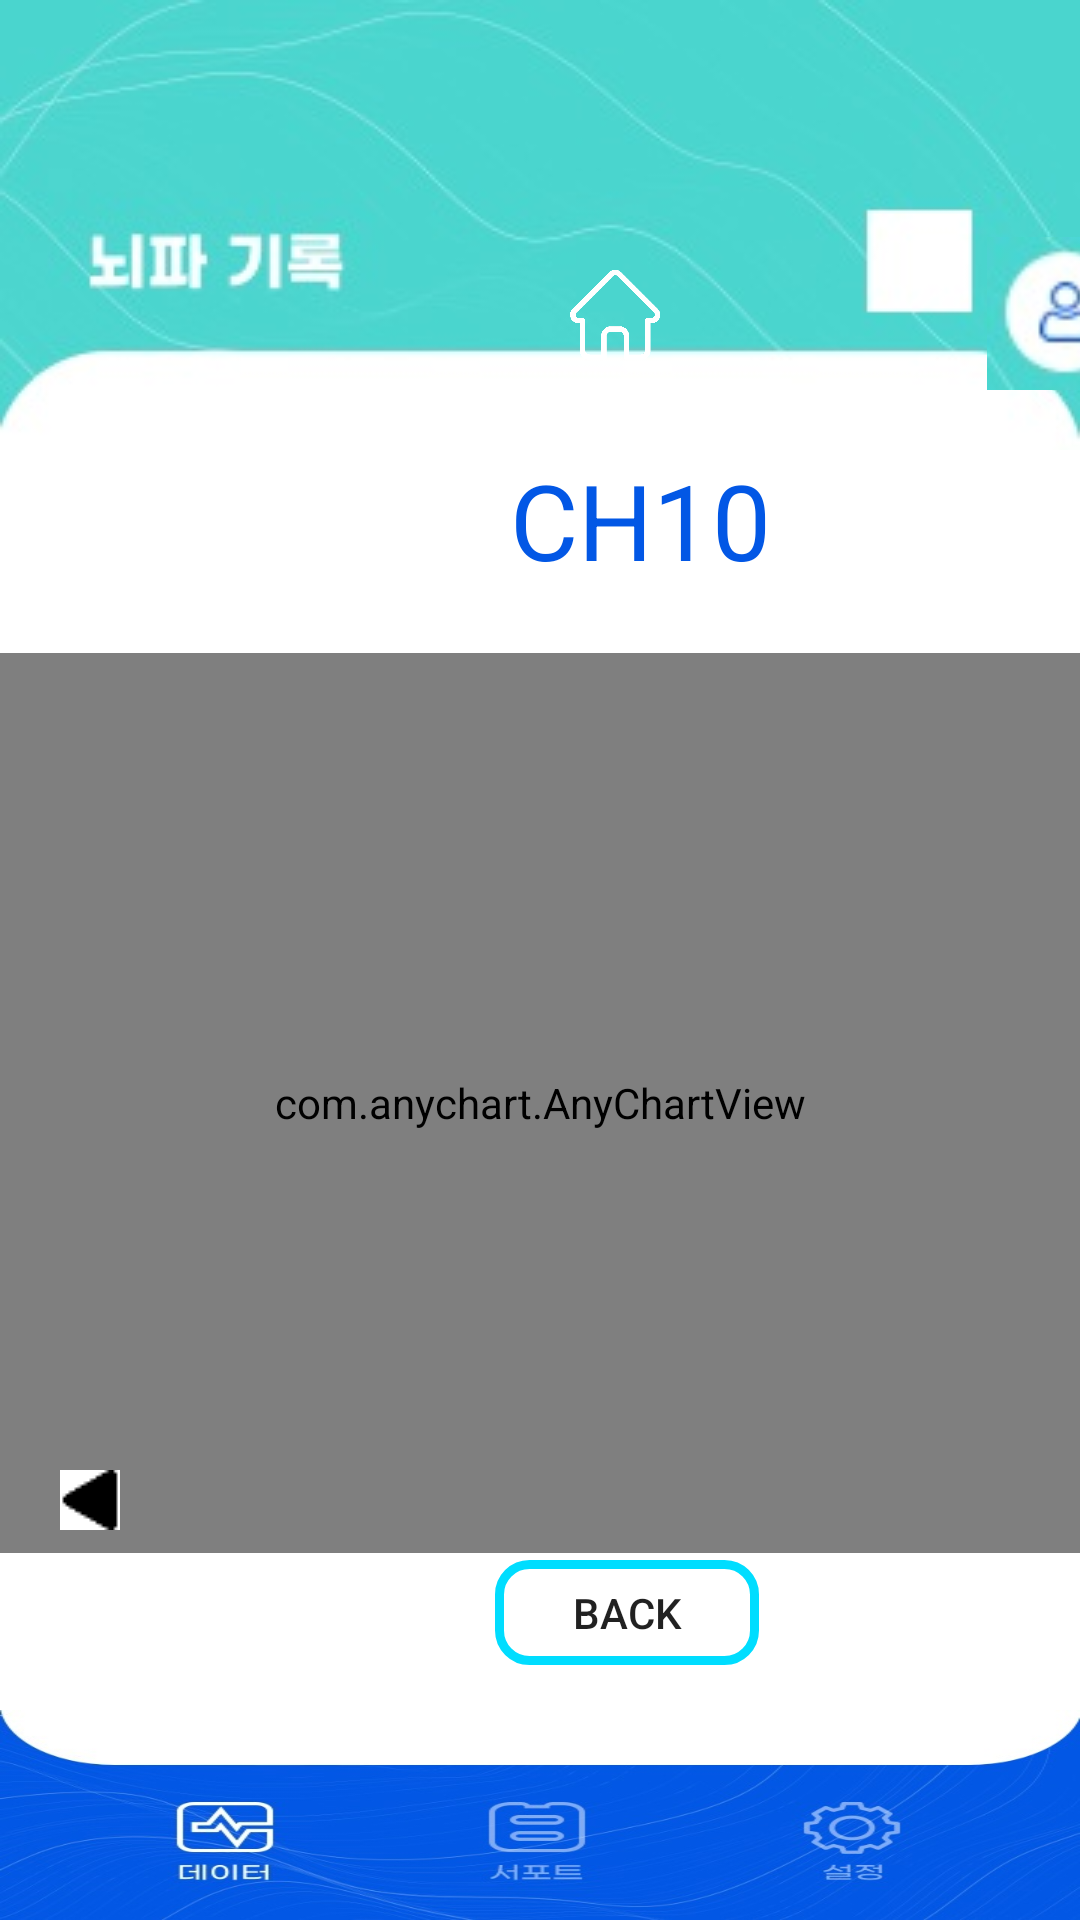

Named icons in this screenshot (1080w x 1920h) and their centers, (x,y):
triangle left: (90,1500)
